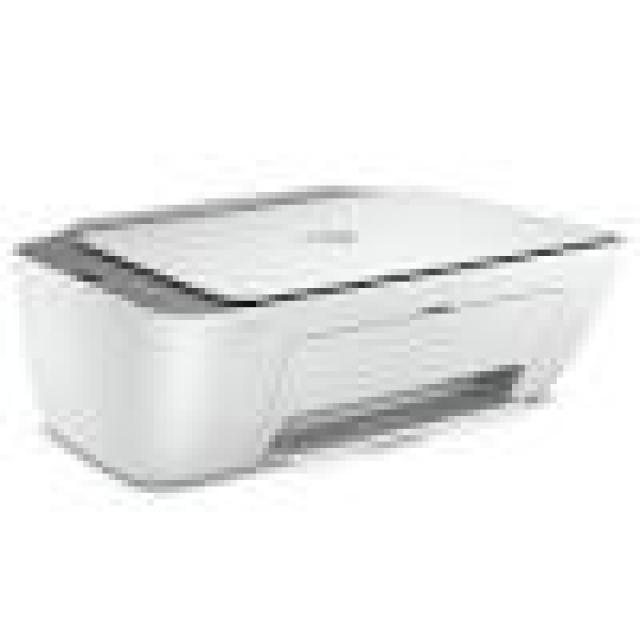printer: (2, 148, 635, 500)
